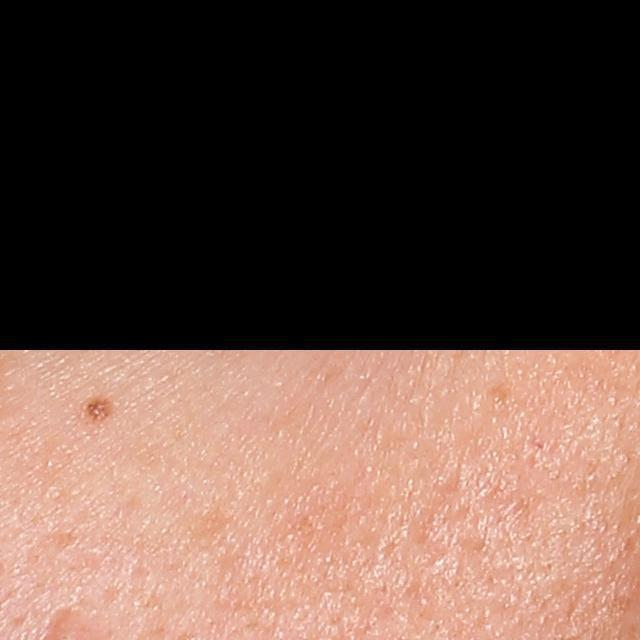nevus: (75, 393, 114, 426)
